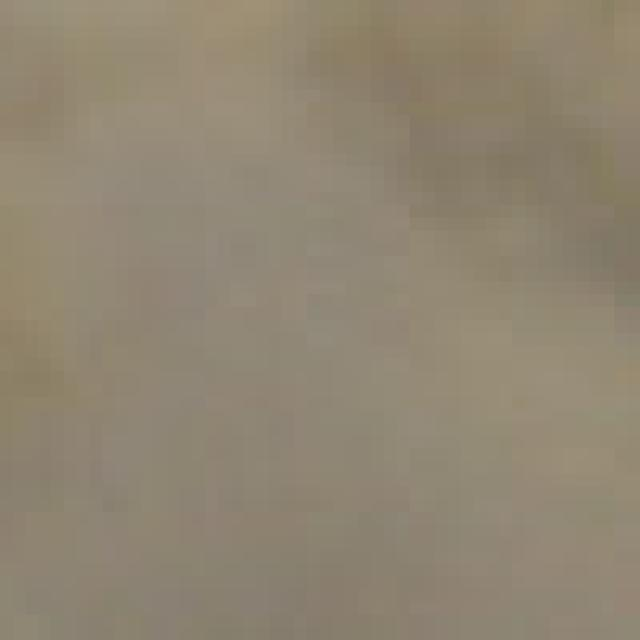fire: (21, 7, 640, 559)
